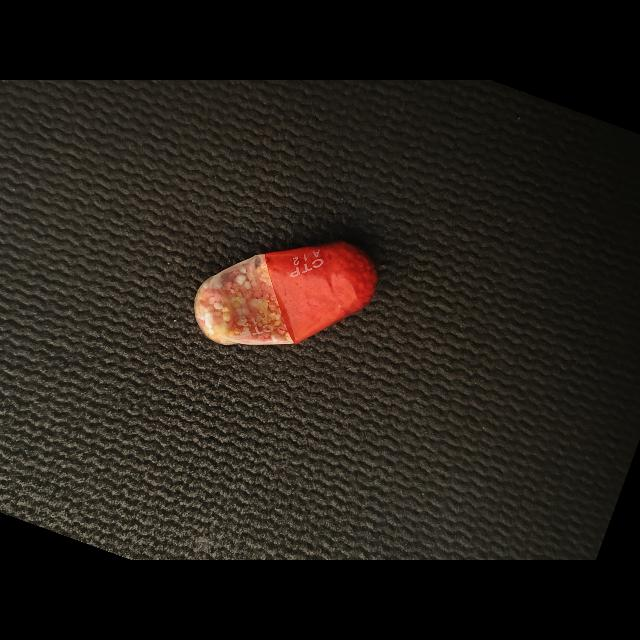Defective Capsule: (194, 241, 377, 345)
